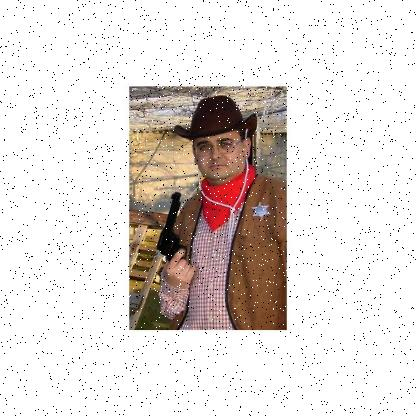gun: (154, 192, 194, 270)
